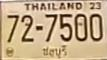0: (74, 13, 87, 41), (89, 13, 102, 40)
2: (20, 14, 33, 41)
5: (59, 13, 72, 41)
7: (44, 13, 57, 41), (6, 14, 18, 42)
CBI: (41, 44, 71, 60)
